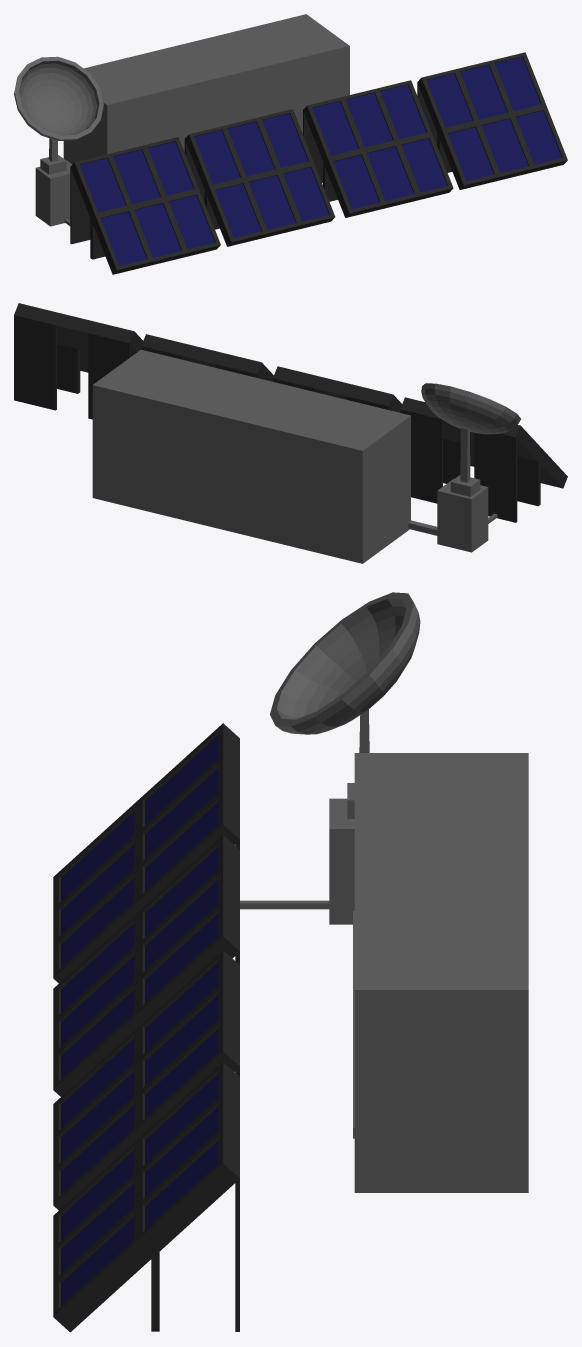
The model's file is panneau_solaire_3.fbx.
3 views of the same model, one above another, from view 1: azimuth 30°, elevation 25°; view 2: azimuth 150°, elevation 25°; view 3: azimuth 270°, elevation 25° (orthographic). The views are drawn at different scales.
Visible parts, largest first — view 1: Cube; view 2: Cube; view 3: Cube.
Part boxes in pixels (<box>): Cube: <box>14,14,567,274</box>; Cube: <box>14,303,567,563</box>; Cube: <box>53,592,528,1332</box>.
Bounding box in the file's own units: 918 × 278 × 396.
